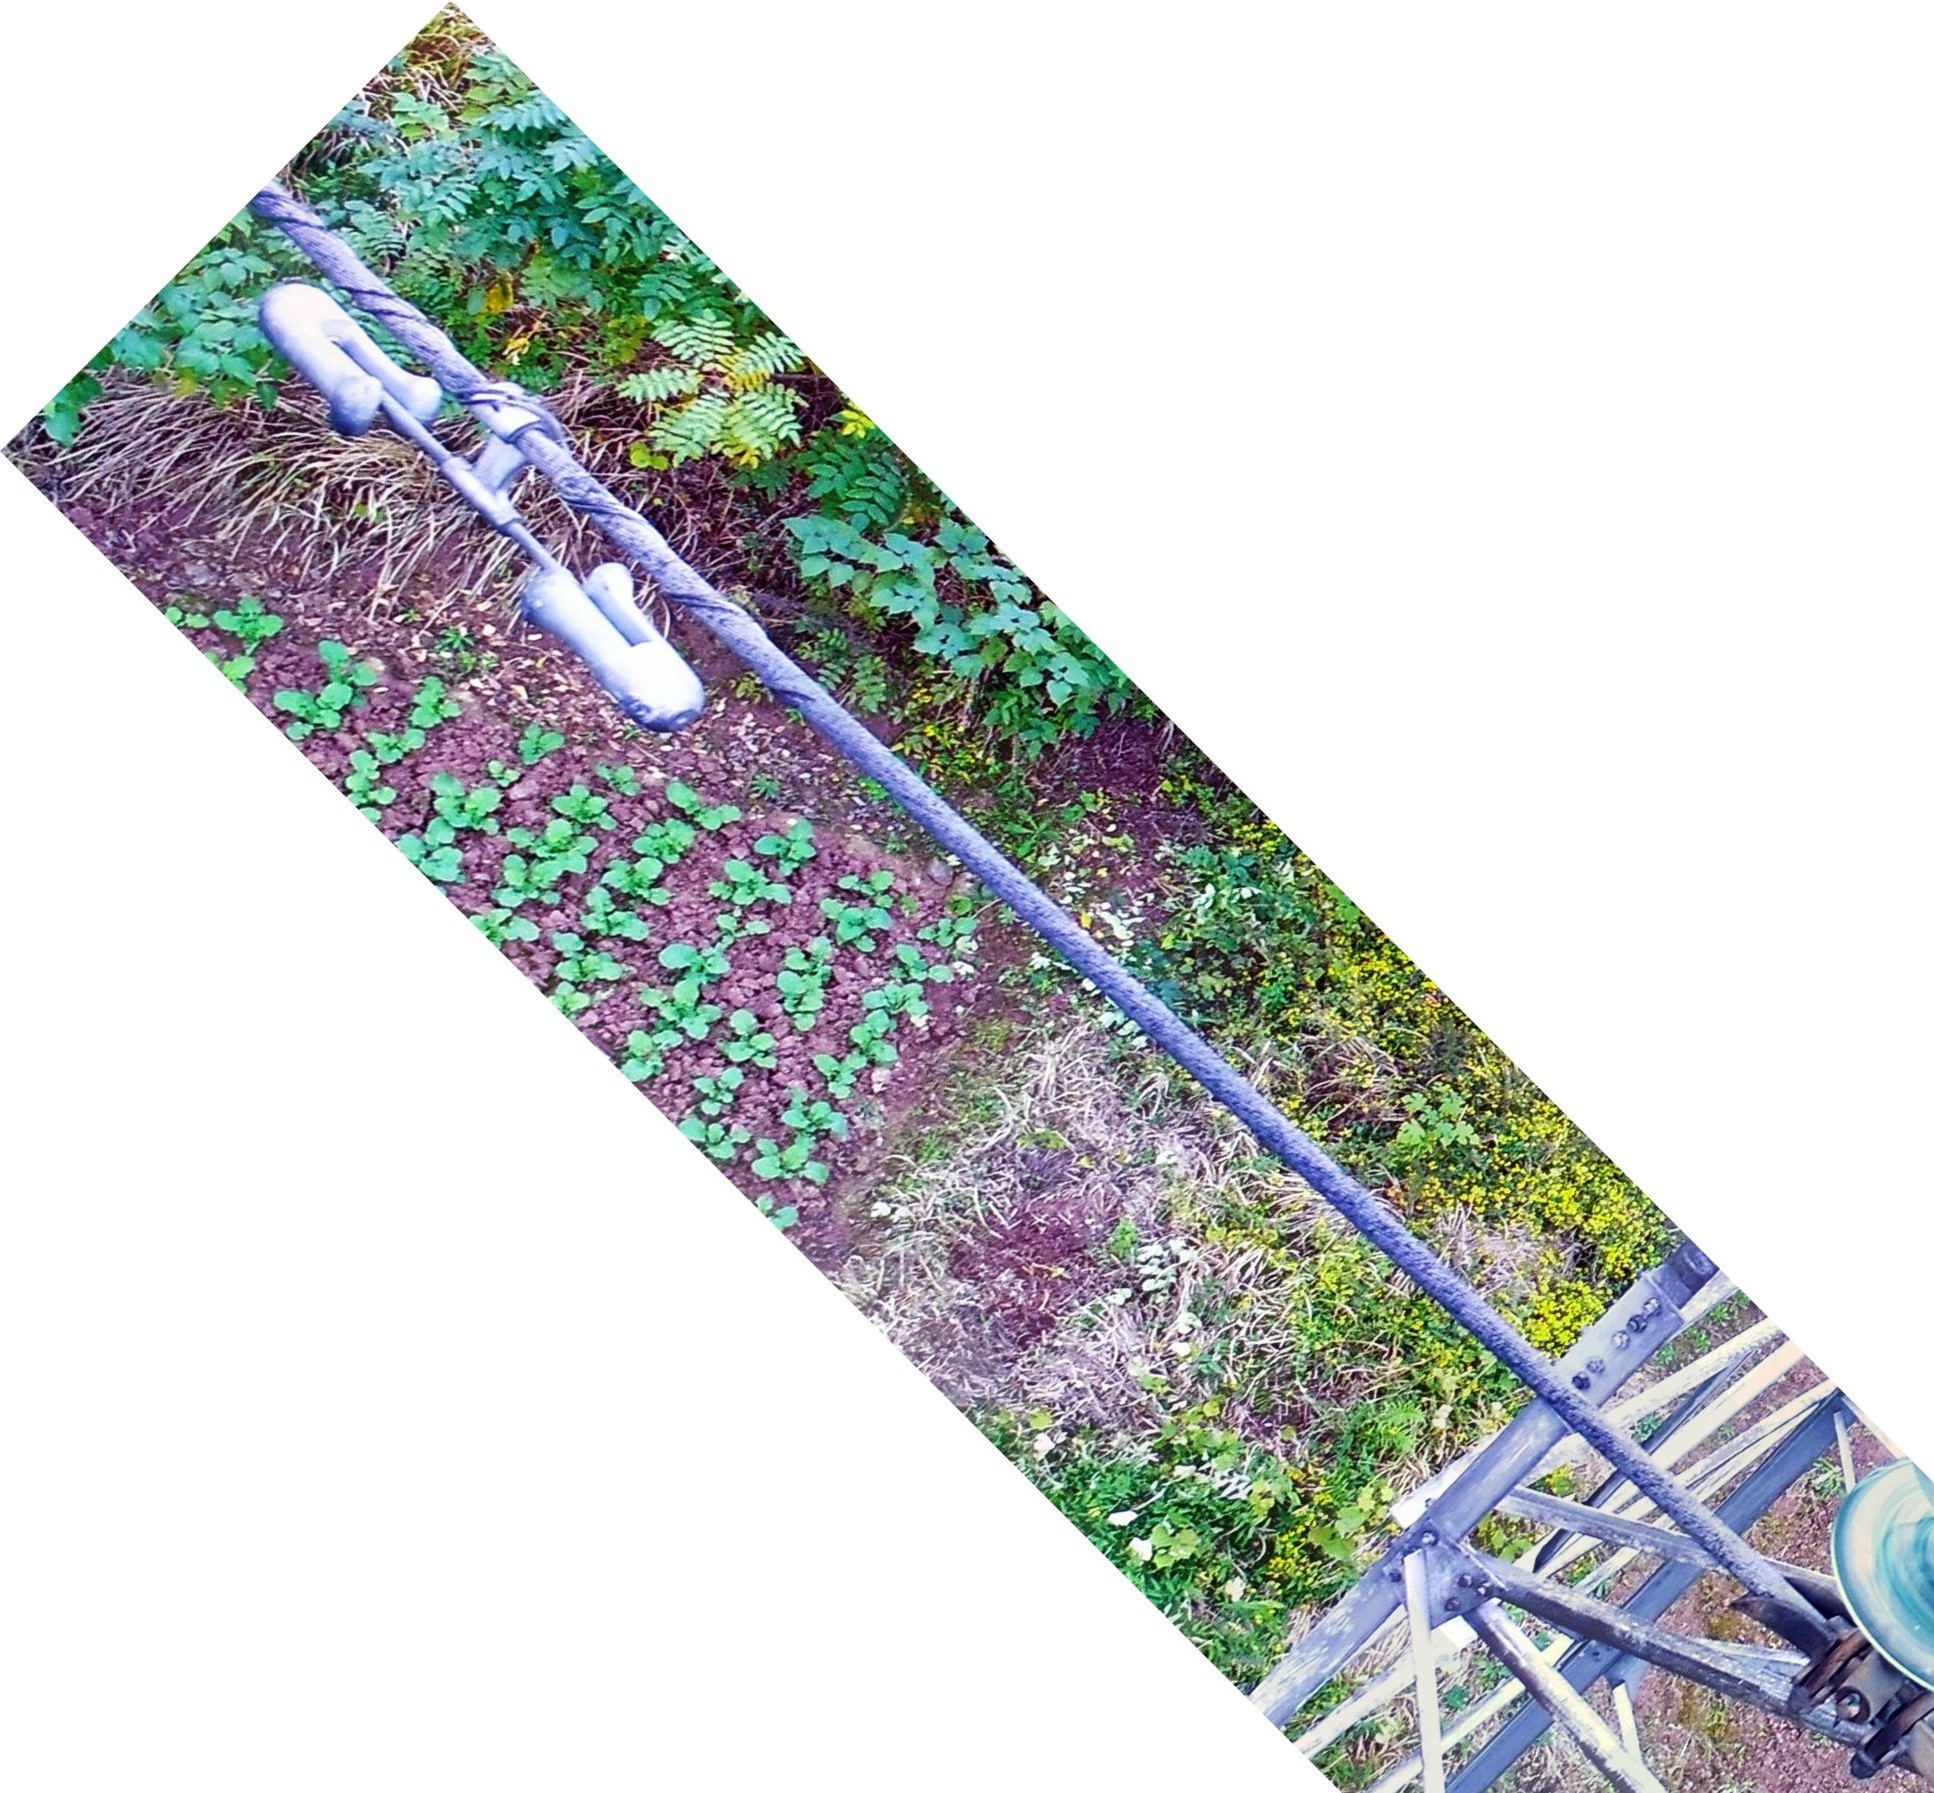Shockproof hammer: (243, 249, 724, 753)
